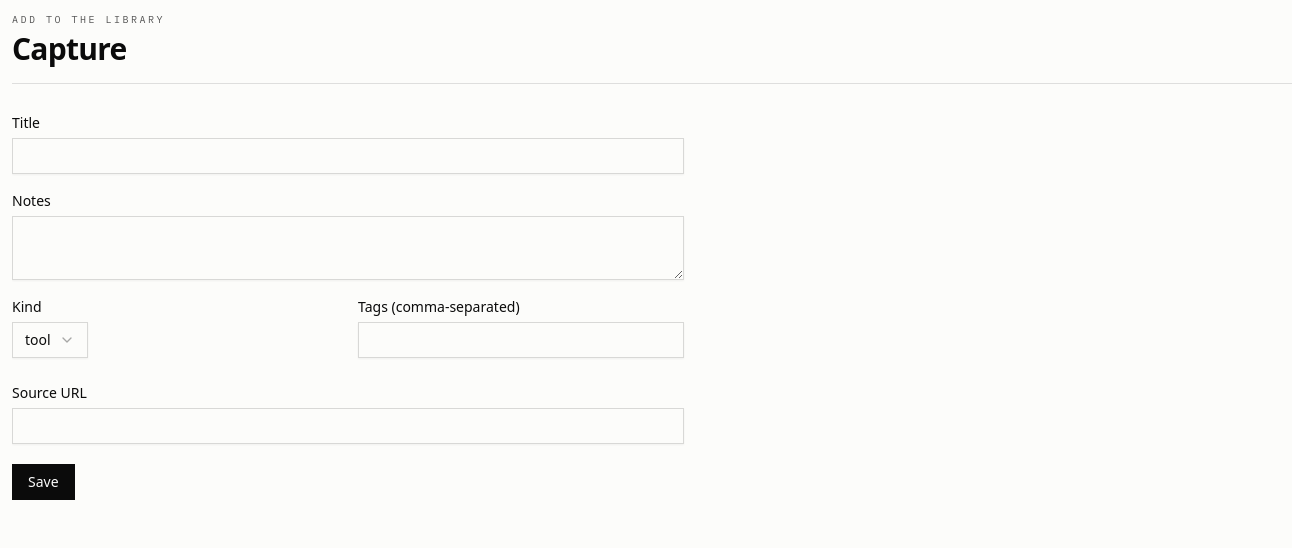
it: Capture › blocks submission without a title
Click the button "Save".
click(43, 482)  # box x1=12 y1=464 x2=75 y2=500
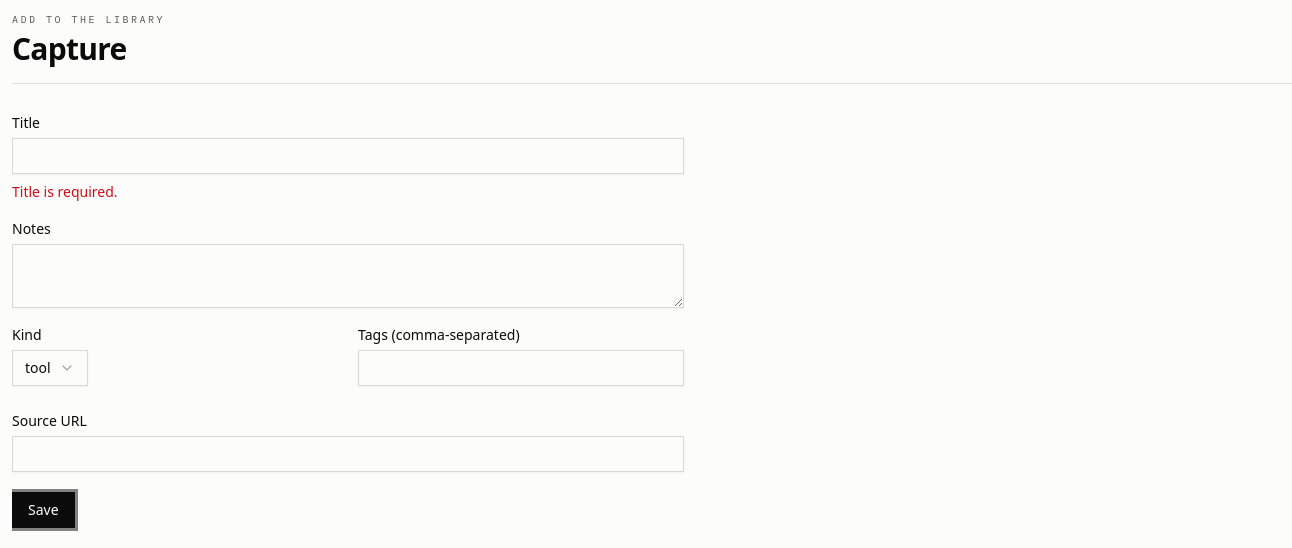
Expected: the text "Title is required." is shown, x1=12 y1=182 x2=118 y2=201
